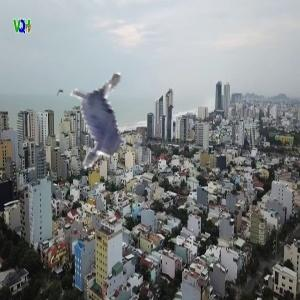drone: (21, 45, 181, 205)
